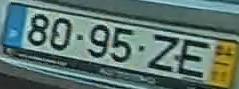0: (47, 16, 74, 52)
5: (109, 26, 134, 64)
8: (25, 13, 51, 47)
9: (85, 23, 110, 59)
E: (176, 37, 210, 80)
Z: (144, 31, 180, 74)
